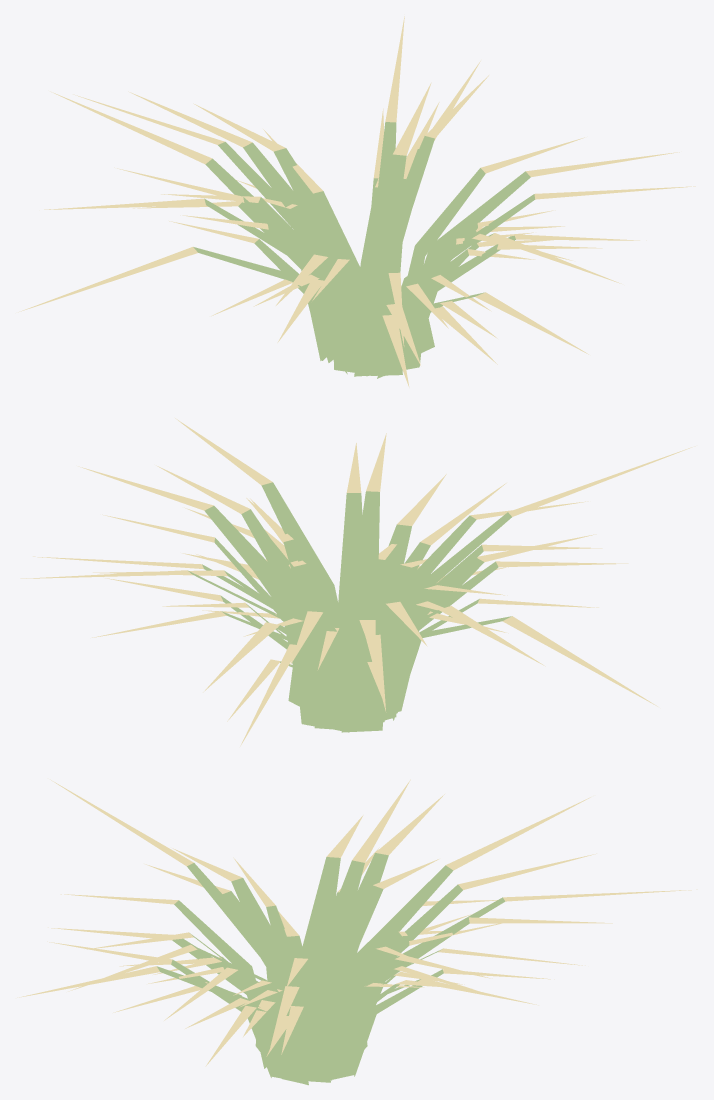
Rendered from Blender_Bunch_1.glb.
The picture shows the model from 3 angles, top to bottom: view 1: azimuth 30°, elevation 25°; view 2: azimuth 150°, elevation 25°; view 3: azimuth 270°, elevation 25°; orthographic projection. The views are drawn at different scales.
Parts seen in each view (by area): view 1: Blender_Bunch_1; view 2: Blender_Bunch_1; view 3: Blender_Bunch_1.
Part boxes in pixels (box(x1,y1,x2,y2)): Blender_Bunch_1: box(18, 16, 695, 387); Blender_Bunch_1: box(20, 418, 695, 746); Blender_Bunch_1: box(17, 779, 697, 1085).
Size of the model in its own units: 1.58 by 0.5056 by 1.6.
